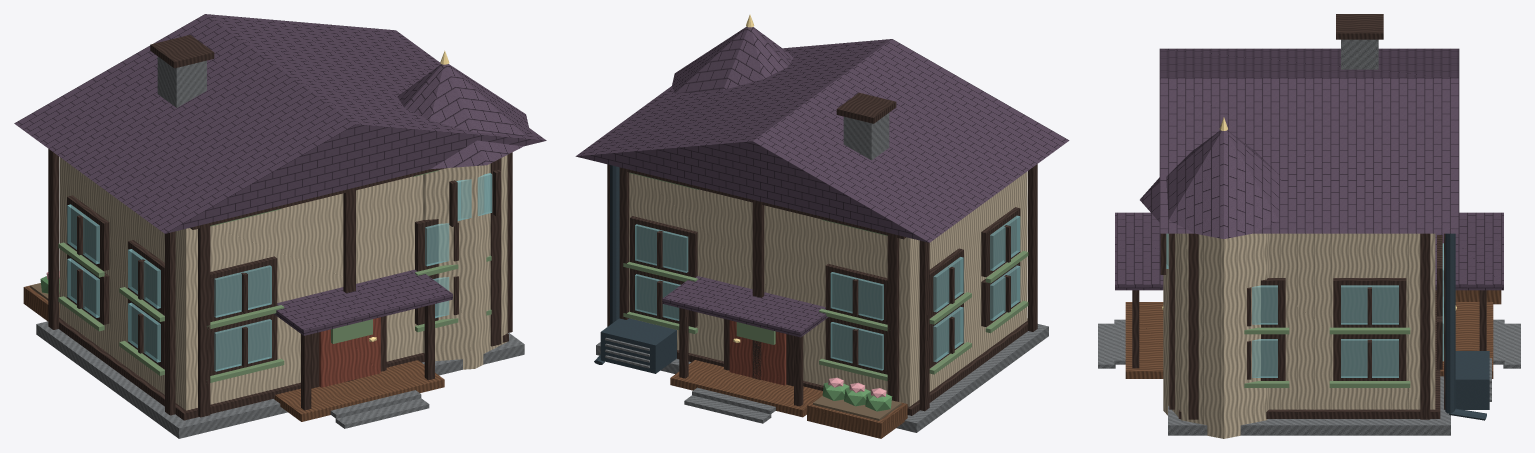
Rendered from house_tudor_lv4_tower.glb.
3 views of the same model, side by side, from view 1: azimuth 30°, elevation 25°; view 2: azimuth 150°, elevation 25°; view 3: azimuth 270°, elevation 25° (orthographic). The views are drawn at different scales.
Parts seen in each view (by area): view 1: gable_roof, walls, tower, tower_roof, front_porch_canopy, foundation, front_deck, front_window_frame.002, front_door, front_window_frame, floor_trim, front_timber (+30 smaller); view 2: gable_roof, walls, back_porch_canopy, tower_roof, back_deck, foundation, back_ac_unit, back_window_frame.003, back_window_frame.002, back_window_frame, back_door, back_timber (+33 smaller); view 3: gable_roof, walls, tower, tower_roof, foundation, back_porch_canopy, front_porch_canopy, right_window_frame.003, right_window_frame.001, front_deck, right_window_glass.003, right_window_glass.001 (+23 smaller).
Part boxes in pixels (bbox=[...]): gable_roof: bbox=[14, 14, 546, 233]; walls: bbox=[59, 157, 422, 410]; tower: bbox=[423, 155, 507, 369]; tower_roof: bbox=[397, 64, 528, 169]; front_porch_canopy: bbox=[274, 269, 452, 335]; foundation: bbox=[36, 321, 524, 438]; front_deck: bbox=[274, 360, 444, 421]; front_window_frame.002: bbox=[210, 256, 277, 321]; front_door: bbox=[319, 317, 380, 387]; front_window_frame: bbox=[210, 314, 277, 375]; floor_trim: bbox=[59, 315, 508, 420]; front_timber: bbox=[198, 223, 210, 417]; gable_roof: bbox=[575, 39, 1069, 242]; walls: bbox=[629, 171, 1027, 406]; back_porch_canopy: bbox=[662, 276, 828, 337]; tower_roof: bbox=[672, 26, 793, 93]; back_deck: bbox=[670, 360, 822, 417]; foundation: bbox=[596, 324, 1048, 432]; back_ac_unit: bbox=[600, 318, 676, 373]; back_window_frame.003: bbox=[630, 216, 697, 277]; back_window_frame.002: bbox=[825, 263, 887, 324]; back_window_frame: bbox=[825, 317, 887, 374]; back_door: bbox=[729, 320, 786, 385]; back_timber: bbox=[887, 233, 899, 401]; gable_roof: bbox=[1159, 48, 1459, 233]; walls: bbox=[1268, 233, 1435, 409]; tower: bbox=[1163, 233, 1268, 438]; tower_roof: bbox=[1140, 130, 1281, 238]; foundation: bbox=[1168, 376, 1450, 435]; back_porch_canopy: bbox=[1435, 212, 1503, 290]; front_porch_canopy: bbox=[1115, 212, 1163, 290]; right_window_frame.003: bbox=[1333, 278, 1406, 327]; right_window_frame.001: bbox=[1333, 334, 1406, 380]; front_deck: bbox=[1125, 302, 1163, 378]; right_window_glass.003: bbox=[1341, 285, 1398, 324]; right_window_glass.001: bbox=[1341, 339, 1398, 377].
Bounding box in the file's own units: 6.6 × 4.75 × 6.19.
Materials: 13 (7 with a texture image).
